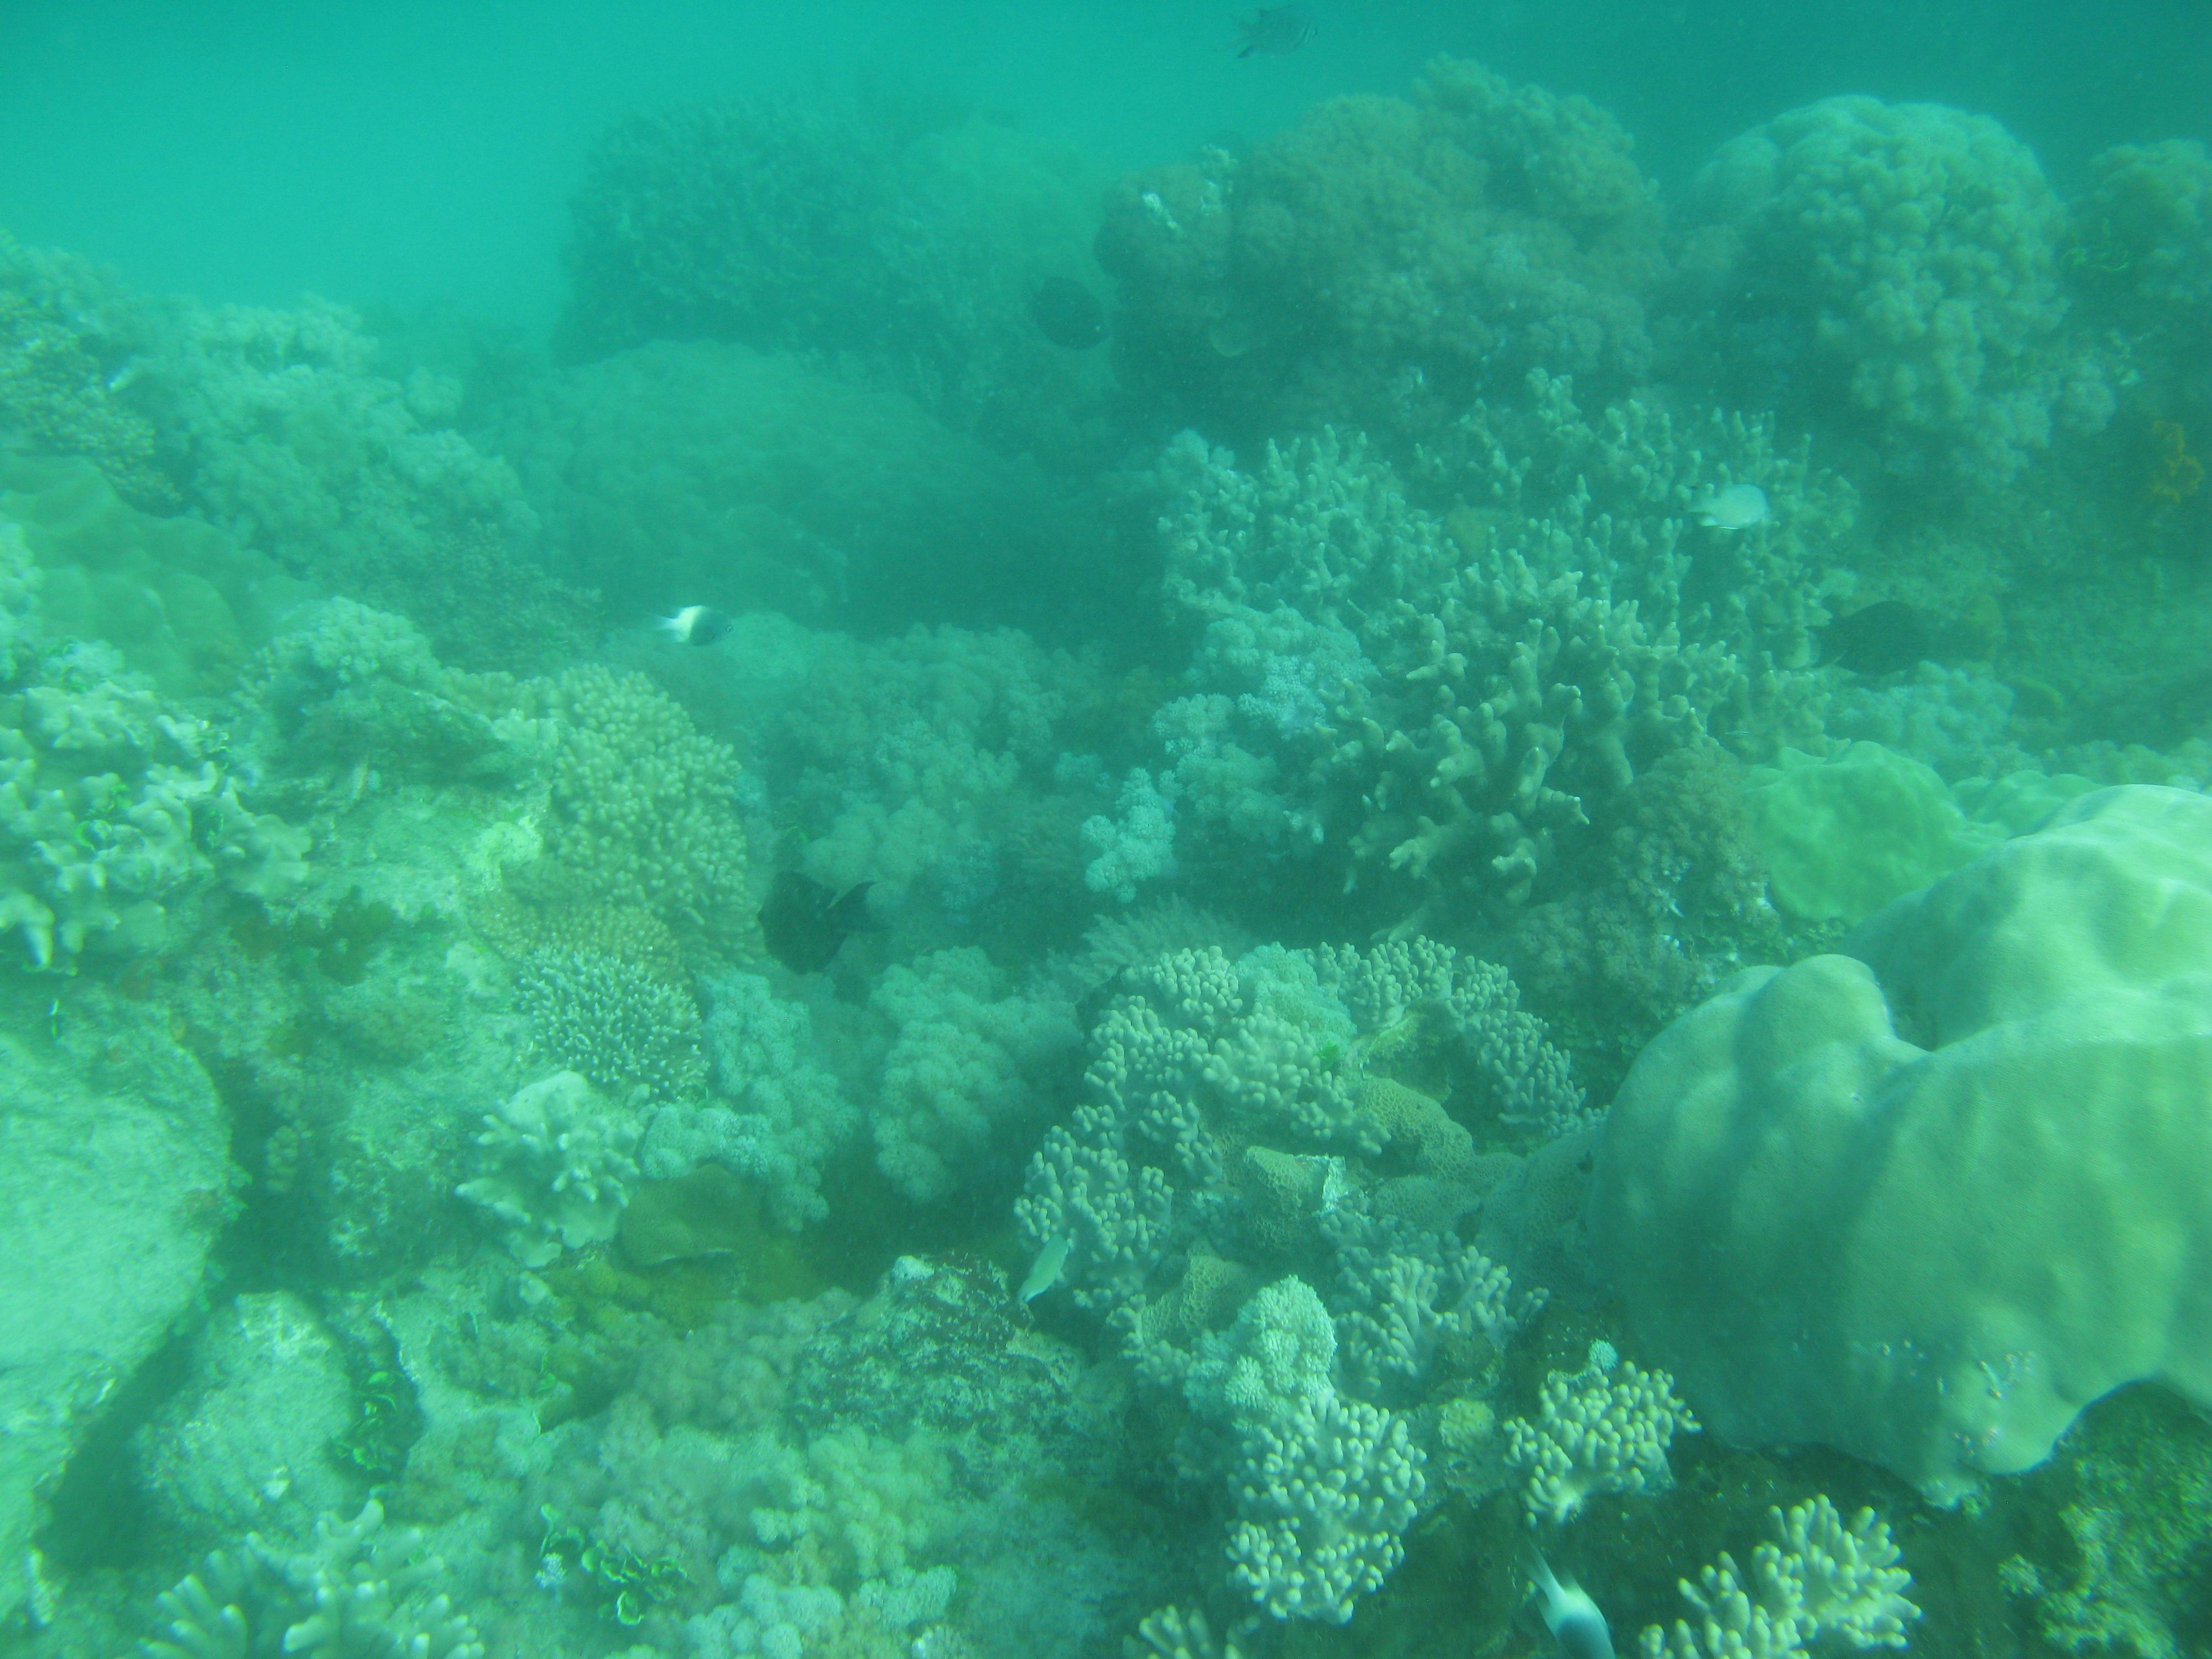Fish: (1514, 1554, 1632, 1659), (650, 589, 740, 660)
